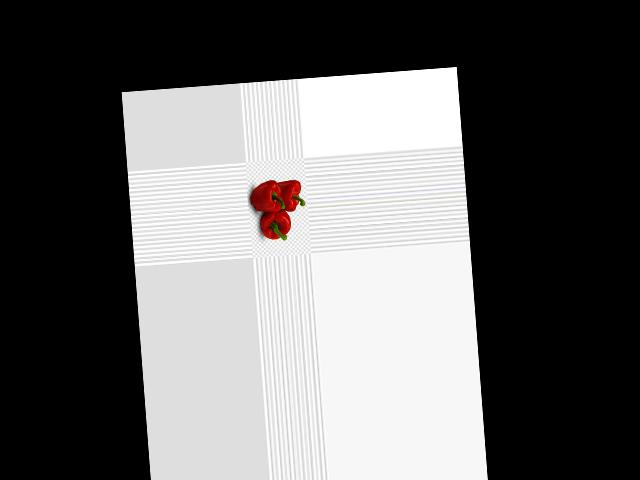bell_pepper: (256, 205, 296, 244)
